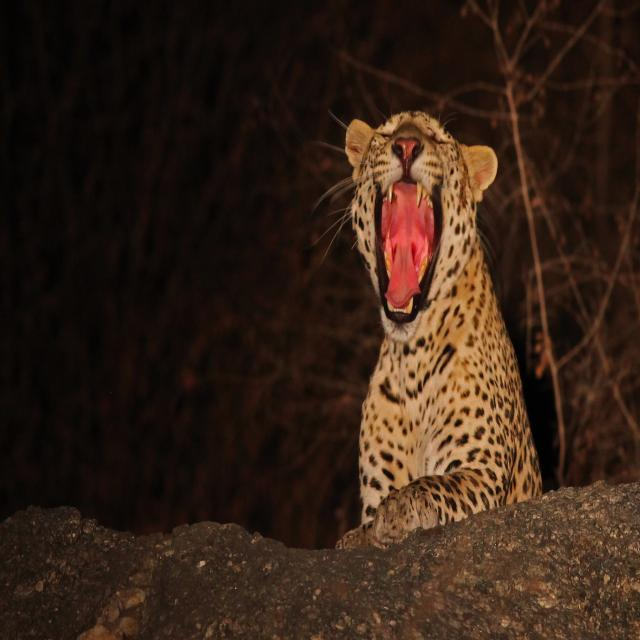Leopard: (335, 111, 543, 558)
